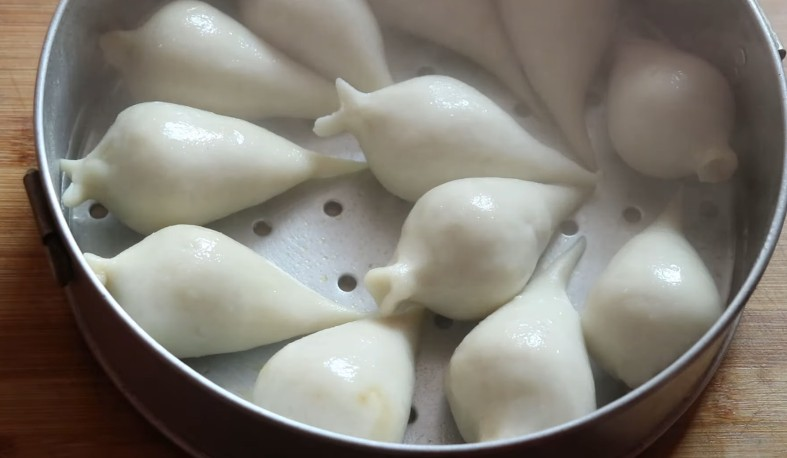yomari: (350, 186, 528, 323), (308, 72, 570, 158), (608, 200, 726, 371), (79, 224, 243, 324), (628, 57, 750, 190), (82, 6, 259, 81), (498, 272, 590, 414), (64, 92, 186, 194), (323, 309, 433, 402)
